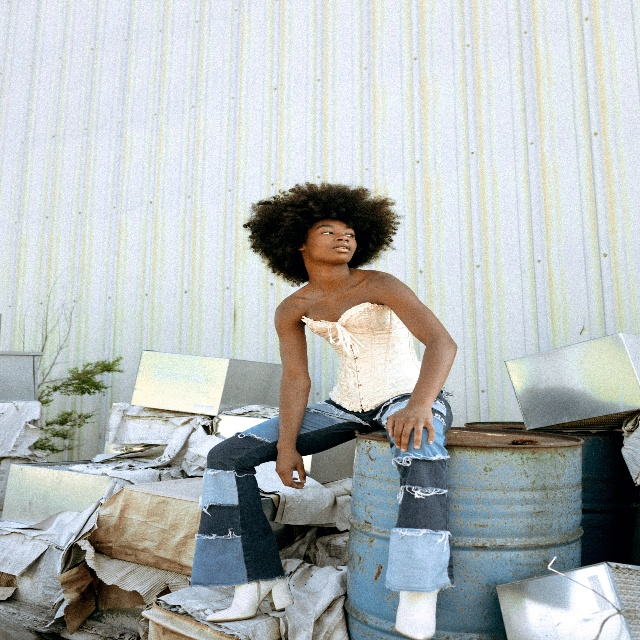Sin_guantes: (385, 408, 434, 450), (274, 441, 306, 488)
